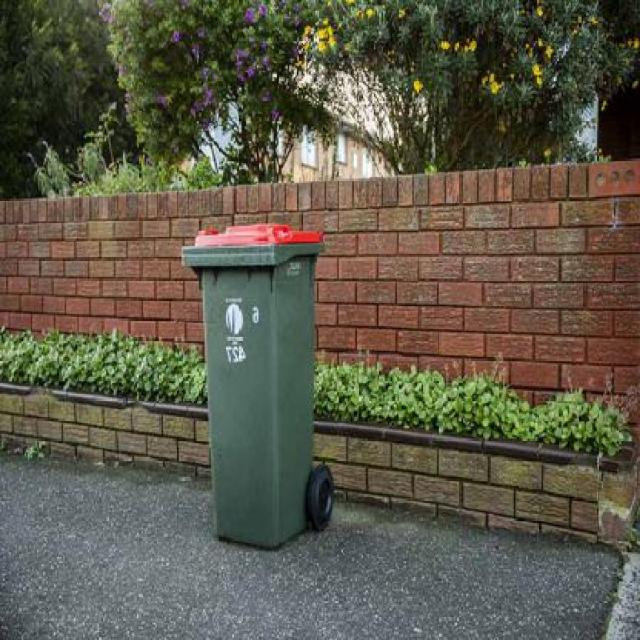garbage container: (175, 213, 336, 567)
